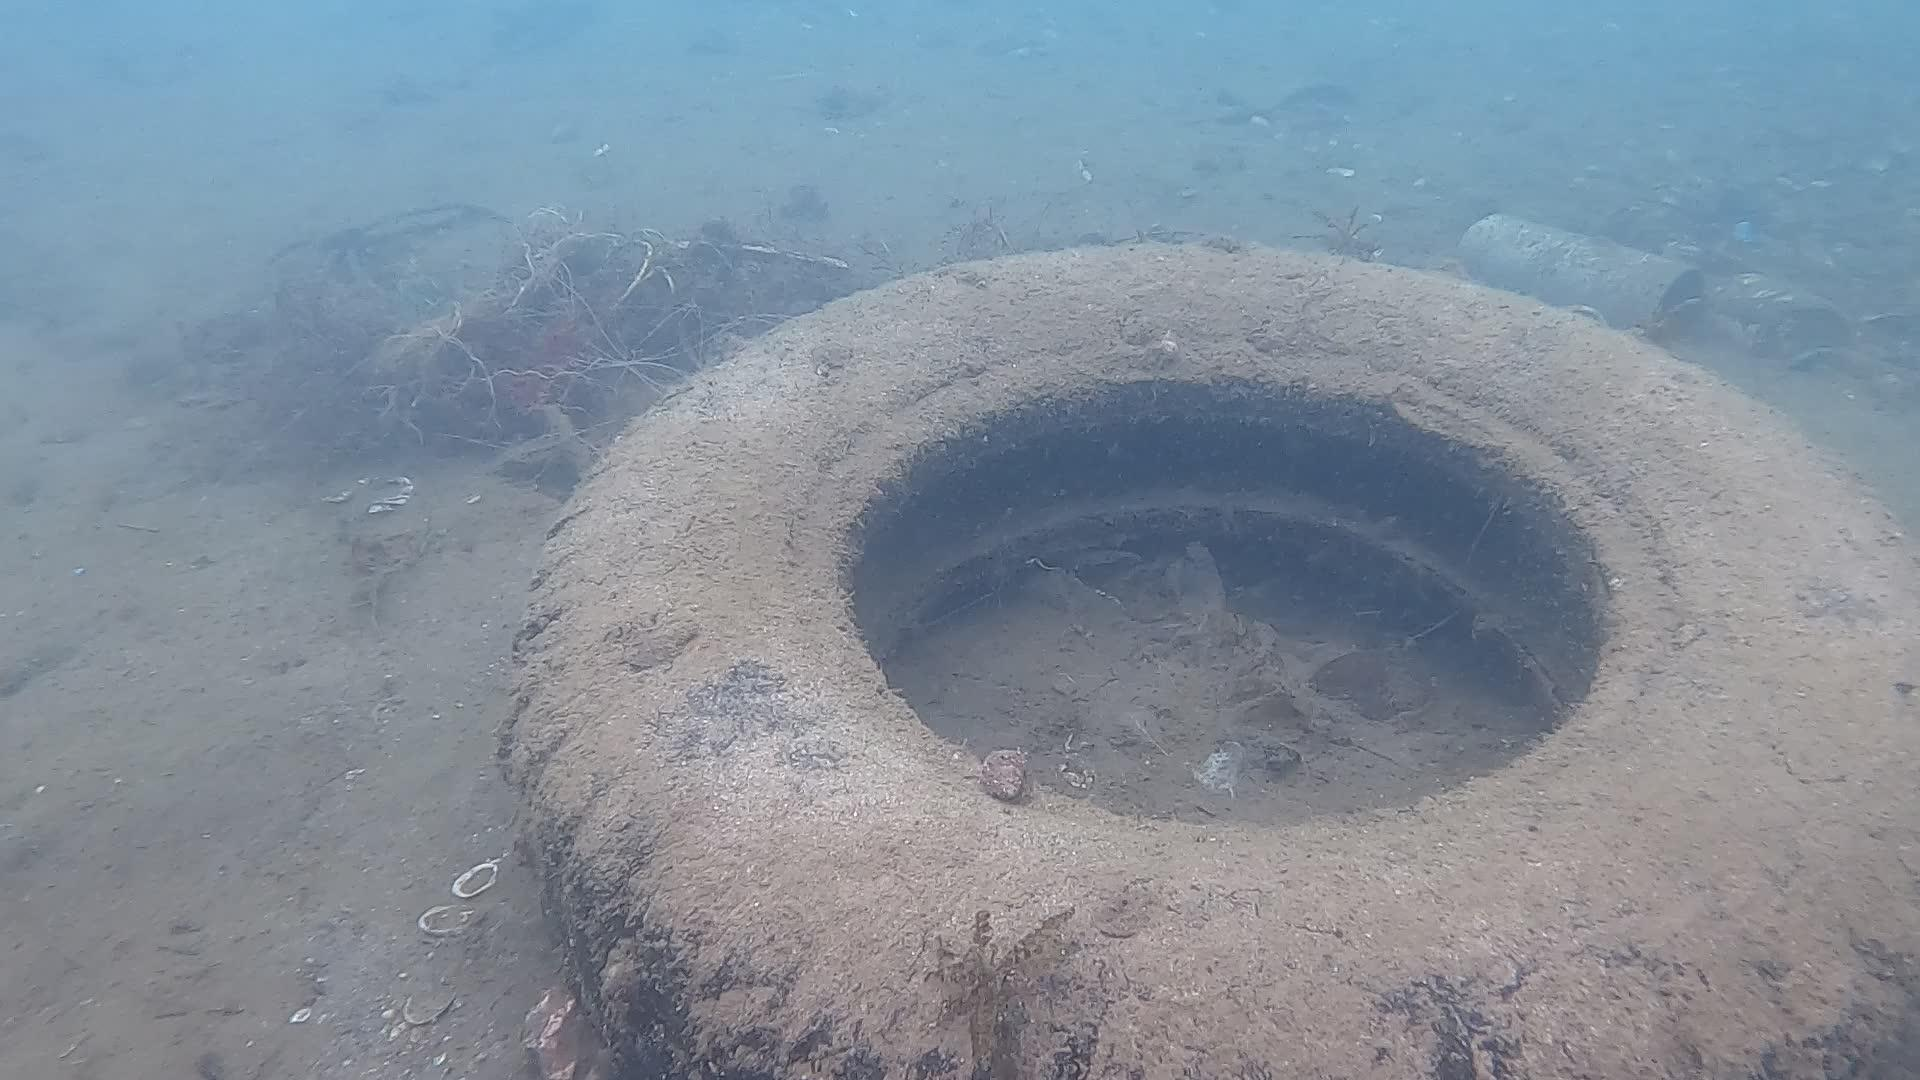tire: (504, 236, 1920, 1080)
